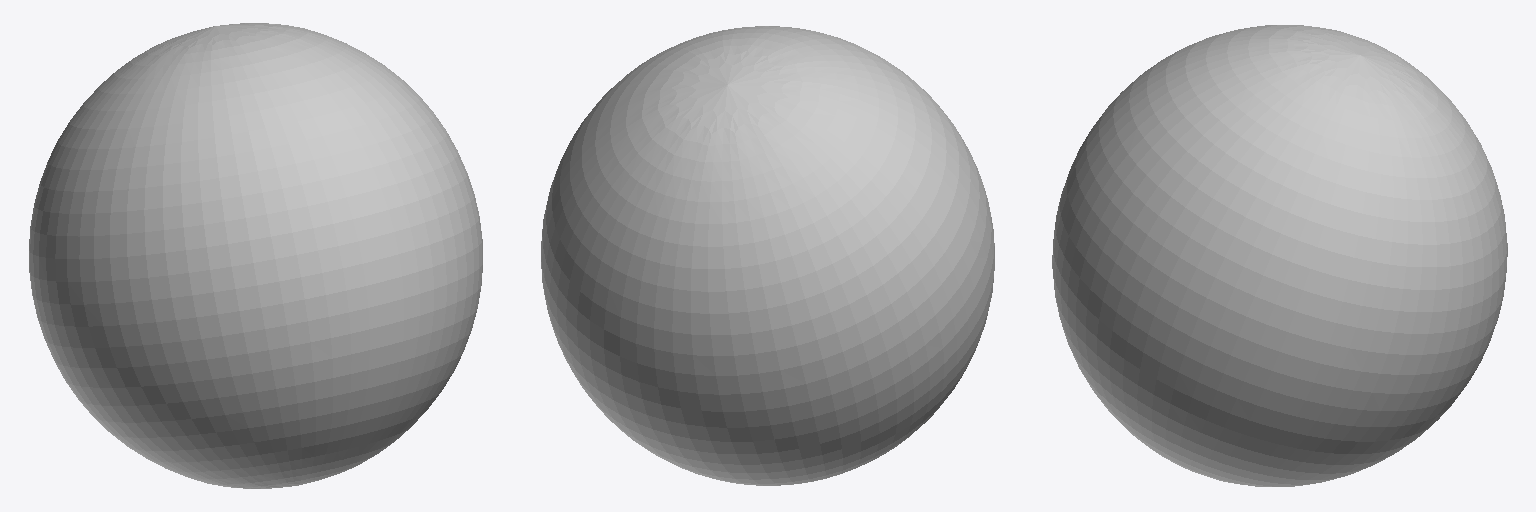
The model's file is ball2.obj.
The picture shows the model from 3 angles: view 1: azimuth 30°, elevation 25°; view 2: azimuth 150°, elevation 25°; view 3: azimuth 270°, elevation 25°; orthographic projection.
Parts seen in each view (by area): view 1: Sphere01.014; view 2: Sphere01.014; view 3: Sphere01.014.
Boxes of the visible parts, box(x1,y1,x2,y2) form: Sphere01.014: box(29, 23, 482, 488); Sphere01.014: box(541, 26, 994, 485); Sphere01.014: box(1052, 25, 1507, 486).
Bounding box in the file's own units: 5.45 × 5.58 × 5.46.